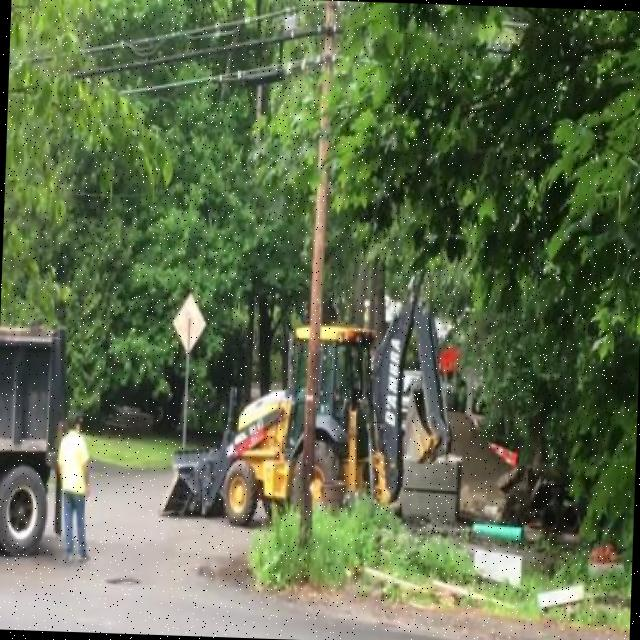Dump Truck: (0, 312, 66, 573)
